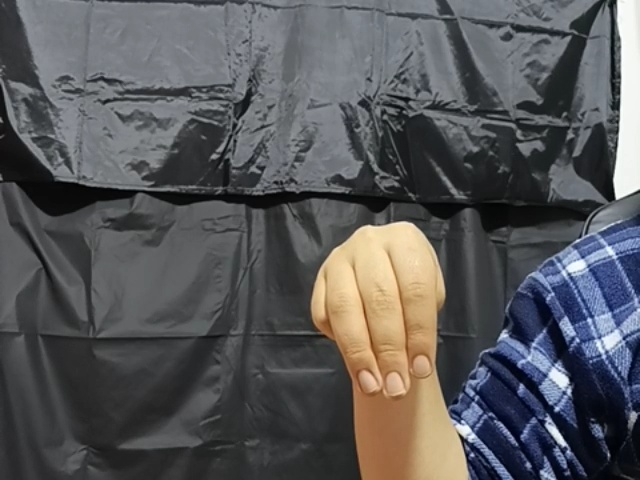M: (309, 211, 449, 408)
